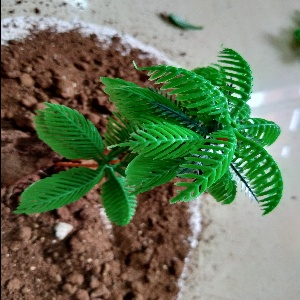plant: (24, 52, 281, 237)
